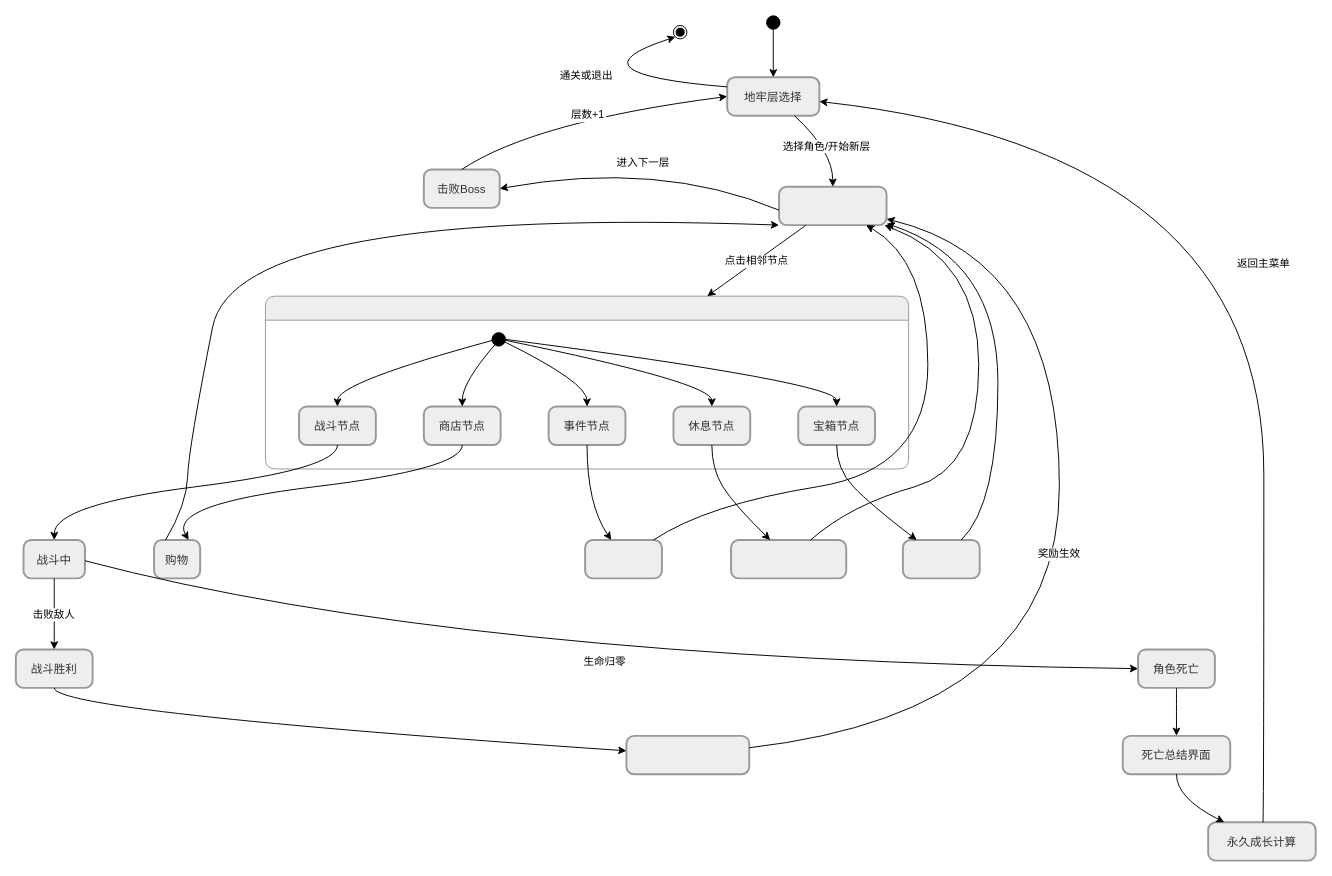
Image size: 1332x876. Some labels were removed from this diagram. Each missing label, with the box of its shape:
地牢地图预览: (778, 185, 887, 226)
恢复/移除状态: (730, 539, 847, 579)
战斗后奖励选择: (625, 734, 750, 775)
节点房间: (264, 295, 909, 469)
获取物品: (901, 539, 980, 579)
触发事件: (584, 539, 662, 579)
